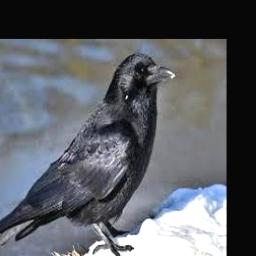Crow: (0, 52, 175, 256)
